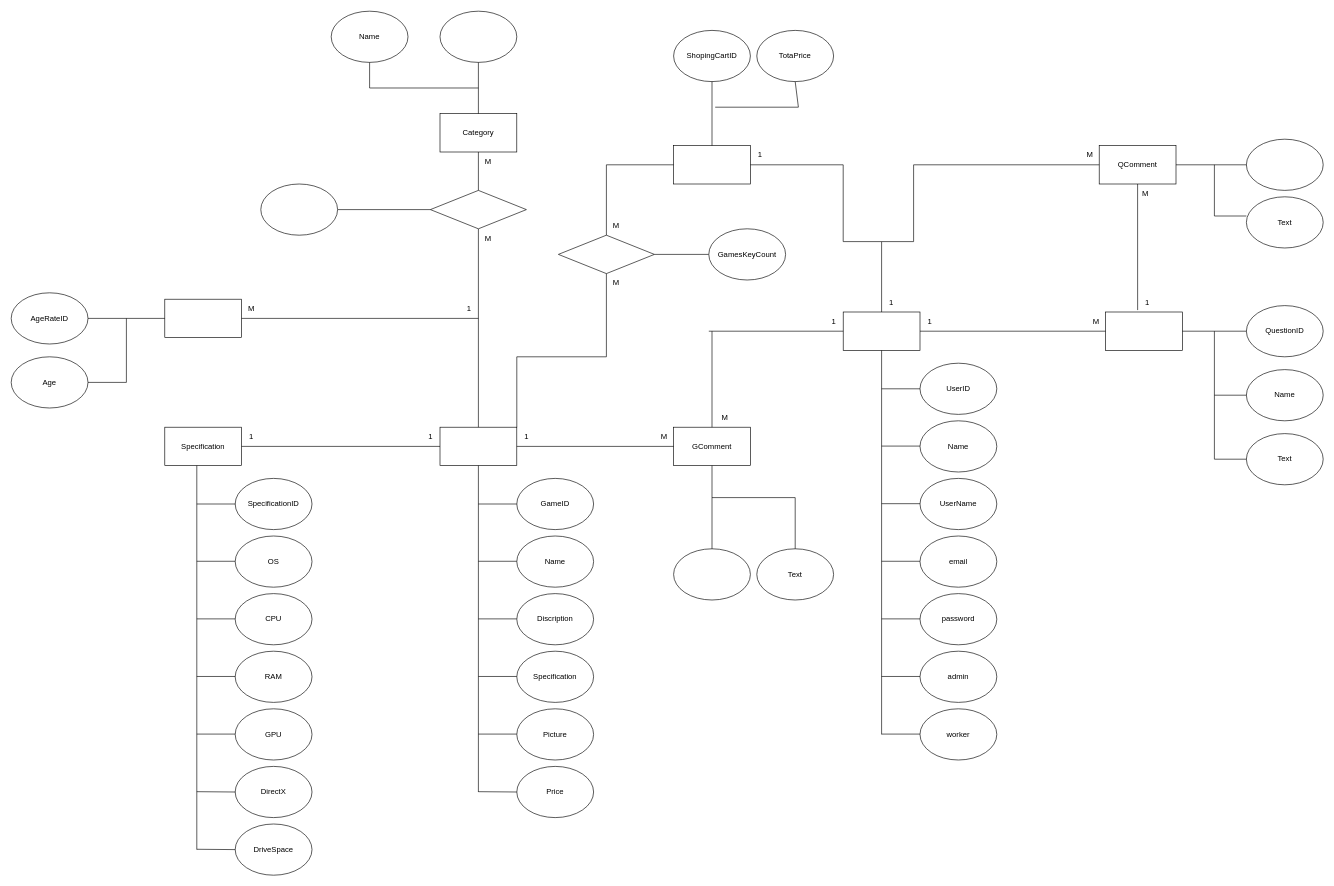
Image size: 1334x886. Some labels were removed from this diagram. Each missing label, with the centre of its shape:
AgeRate: the point at 203,318
CategoryID: the point at 478,36
Game: the point at 478,446
GCommentID: the point at 711,574
Have: the point at 478,209
Include: the point at 606,254
QCommentID: the point at 1284,164
Question: the point at 1143,330
ShoppingCart: the point at 711,164
User: the point at 881,330
